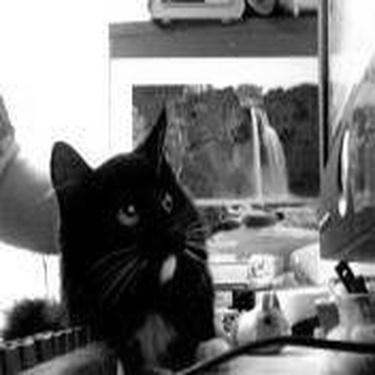cat: (49, 91, 215, 371)
